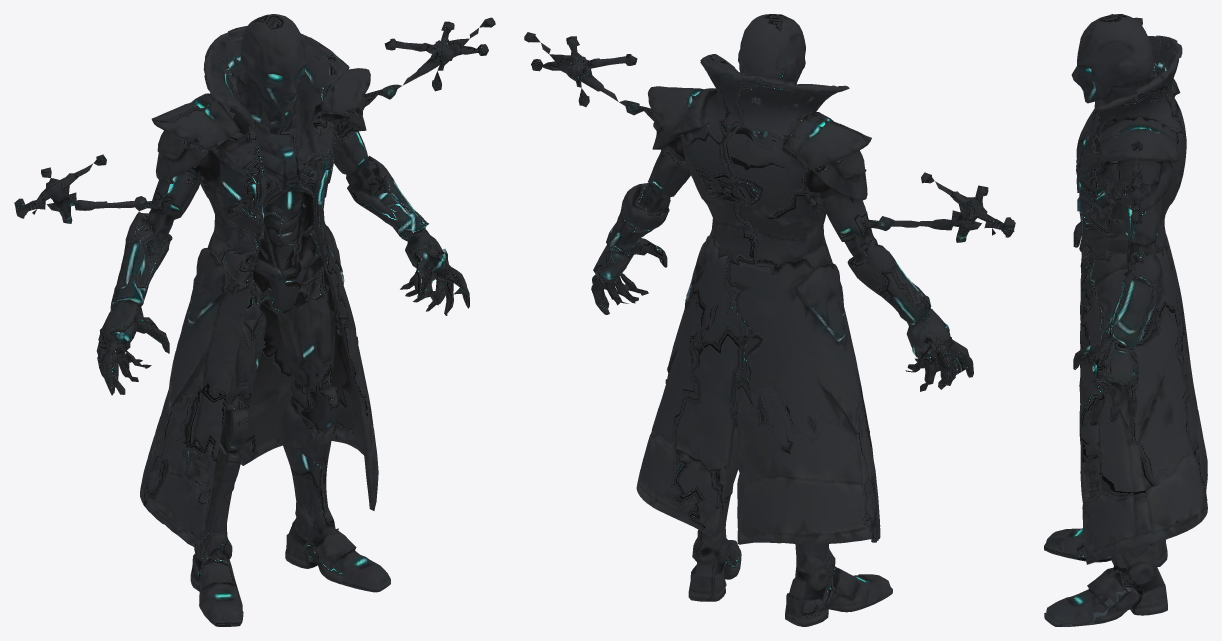
The model's file is statue-9.glb.
3 views of the same model, side by side, from view 1: azimuth 30°, elevation 25°; view 2: azimuth 150°, elevation 25°; view 3: azimuth 270°, elevation 25° (orthographic). The views are drawn at different scales.
Visible parts, largest first — view 1: body; view 2: body; view 3: body.
Boxes of the visible parts, x1,y1,x2,y2 form: body: (14, 14, 495, 626); body: (524, 14, 1015, 626); body: (1044, 14, 1207, 626).
Bounding box in the file's own units: 0.8863 × 0.9995 × 0.2615.
Materials: 1 (1 with a texture image).
